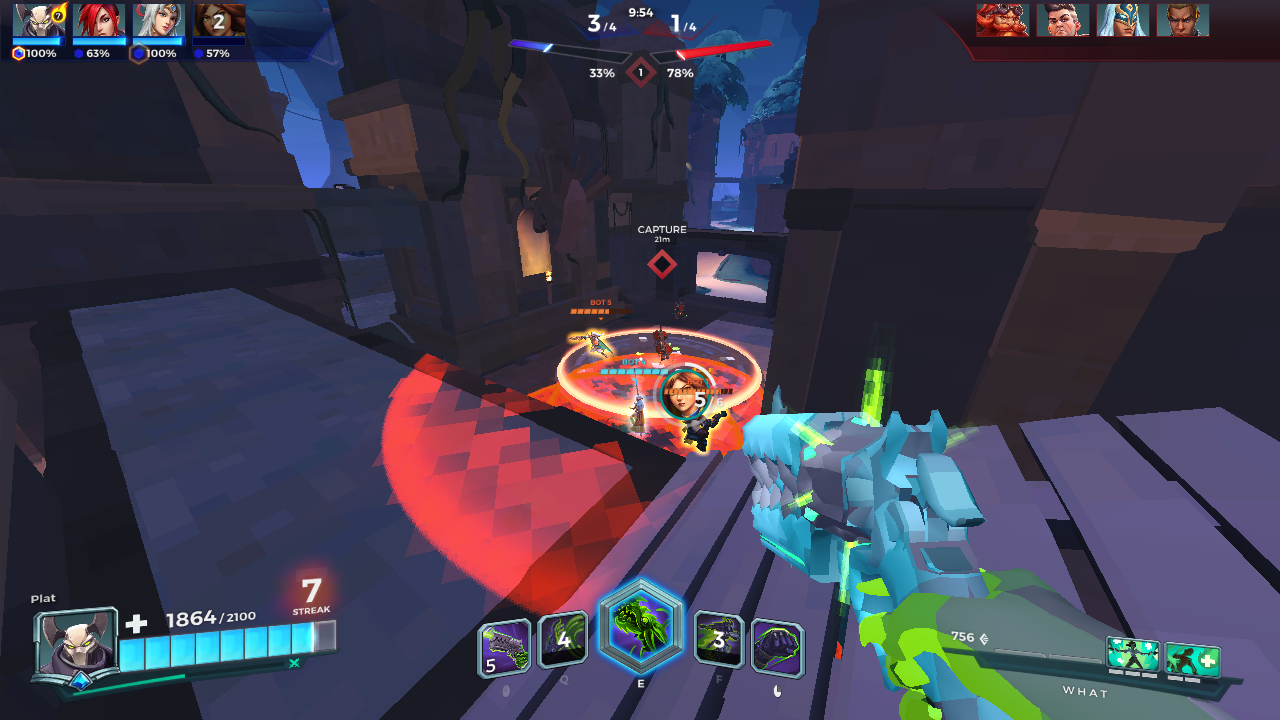model: (681, 406, 722, 459), (575, 324, 622, 358)
